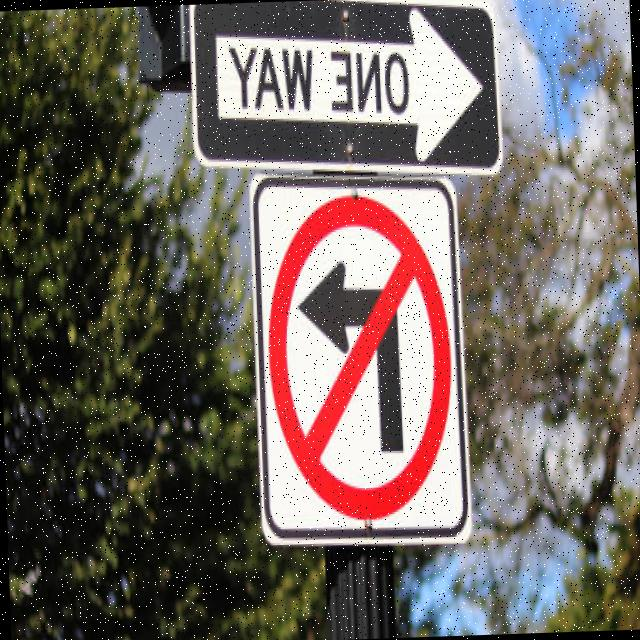do_not_turn_right: (260, 189, 458, 524)
